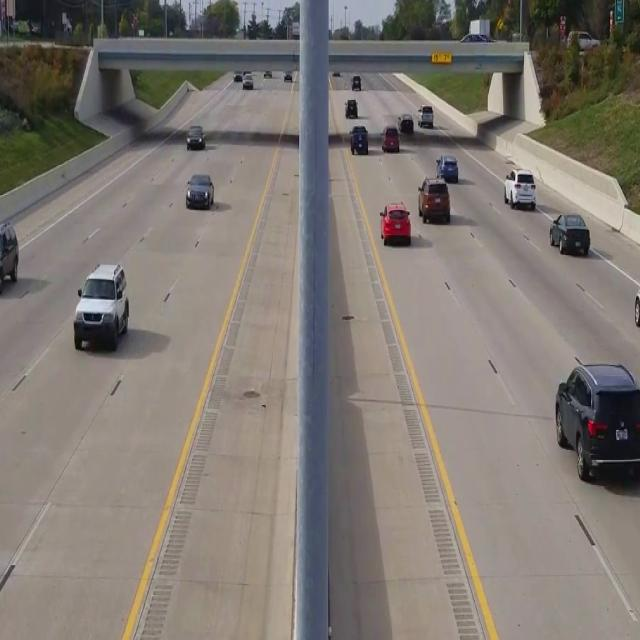car: (554, 362, 640, 482), (73, 262, 130, 352), (550, 213, 590, 255), (418, 176, 450, 222), (0, 220, 18, 296), (380, 201, 411, 245), (185, 172, 214, 208), (349, 124, 368, 155), (437, 155, 458, 183), (633, 268, 640, 346), (382, 125, 399, 151), (186, 124, 204, 148)
